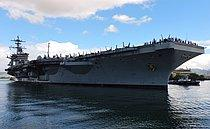MIL_Ship: (5, 33, 207, 88)
